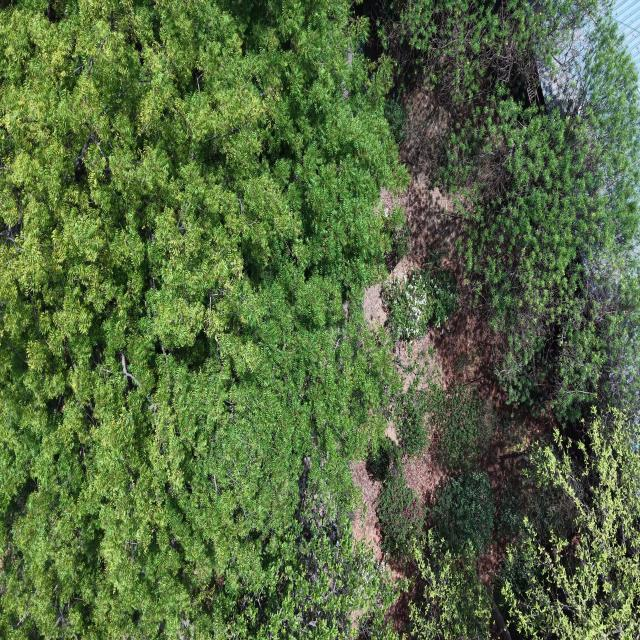DRY_AREA: (381, 88, 554, 499), (381, 87, 506, 406), (381, 89, 502, 395), (395, 306, 555, 499), (382, 173, 503, 396), (382, 163, 495, 389), (395, 279, 501, 398), (382, 171, 465, 291), (382, 175, 461, 274), (479, 403, 556, 503), (351, 462, 387, 561), (351, 462, 385, 561), (351, 461, 383, 561), (394, 331, 441, 388), (386, 565, 423, 637), (404, 443, 446, 505), (478, 542, 505, 587), (364, 283, 386, 327)
VEGETATION_TREE: (0, 0, 639, 639), (0, 0, 406, 638), (370, 0, 639, 638), (372, 0, 639, 419), (382, 409, 639, 639), (458, 98, 638, 416), (462, 99, 637, 408), (502, 411, 639, 639), (370, 0, 599, 116), (394, 376, 497, 472), (410, 530, 491, 639), (368, 438, 426, 562), (426, 383, 496, 471), (382, 263, 457, 340), (431, 472, 494, 556), (377, 469, 424, 562), (395, 378, 428, 455), (494, 477, 528, 540), (384, 206, 410, 270), (367, 437, 402, 482), (385, 96, 406, 143)
